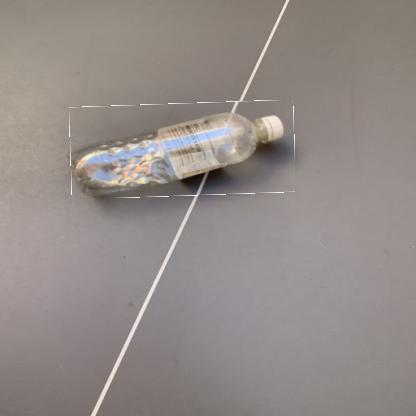plastic-bottles: (71, 103, 297, 199)
